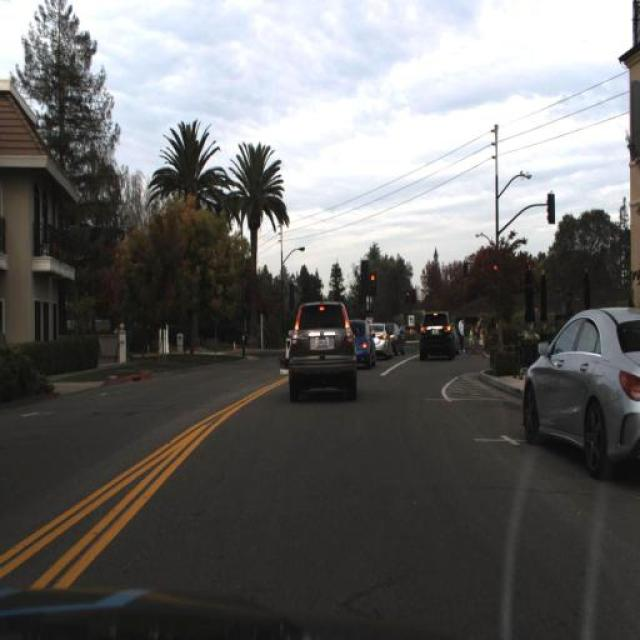car: (516, 305, 639, 466), (285, 299, 356, 391), (418, 310, 457, 360), (352, 317, 377, 364), (369, 318, 390, 352), (389, 319, 409, 352)
trafficLight: (456, 317, 466, 355), (477, 325, 485, 350), (468, 326, 473, 352), (477, 314, 484, 330)
trafficLight-RedLeft: (490, 258, 500, 293), (365, 270, 377, 294)
